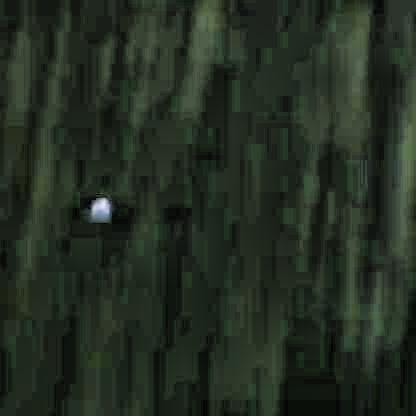golfball: (88, 191, 110, 216)
